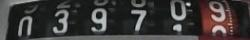digits: (90, 7, 107, 32), (52, 9, 68, 33), (208, 0, 225, 21), (130, 9, 147, 30), (169, 0, 186, 19), (17, 15, 32, 36)
